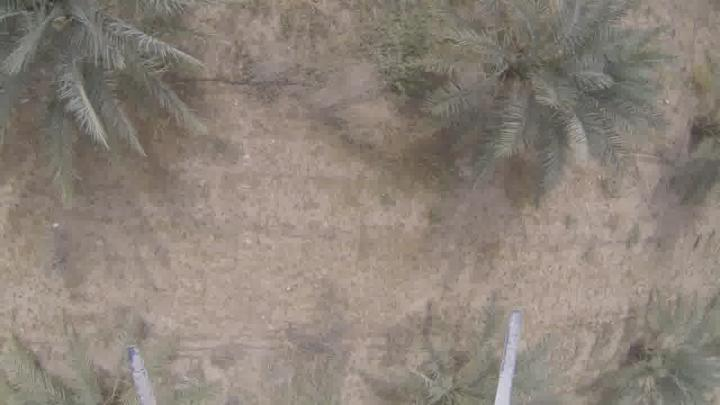Date-Palm-Crown: (425, 0, 629, 156), (1, 0, 172, 130), (399, 331, 539, 405), (0, 350, 182, 404), (624, 302, 720, 404), (696, 68, 720, 196)
